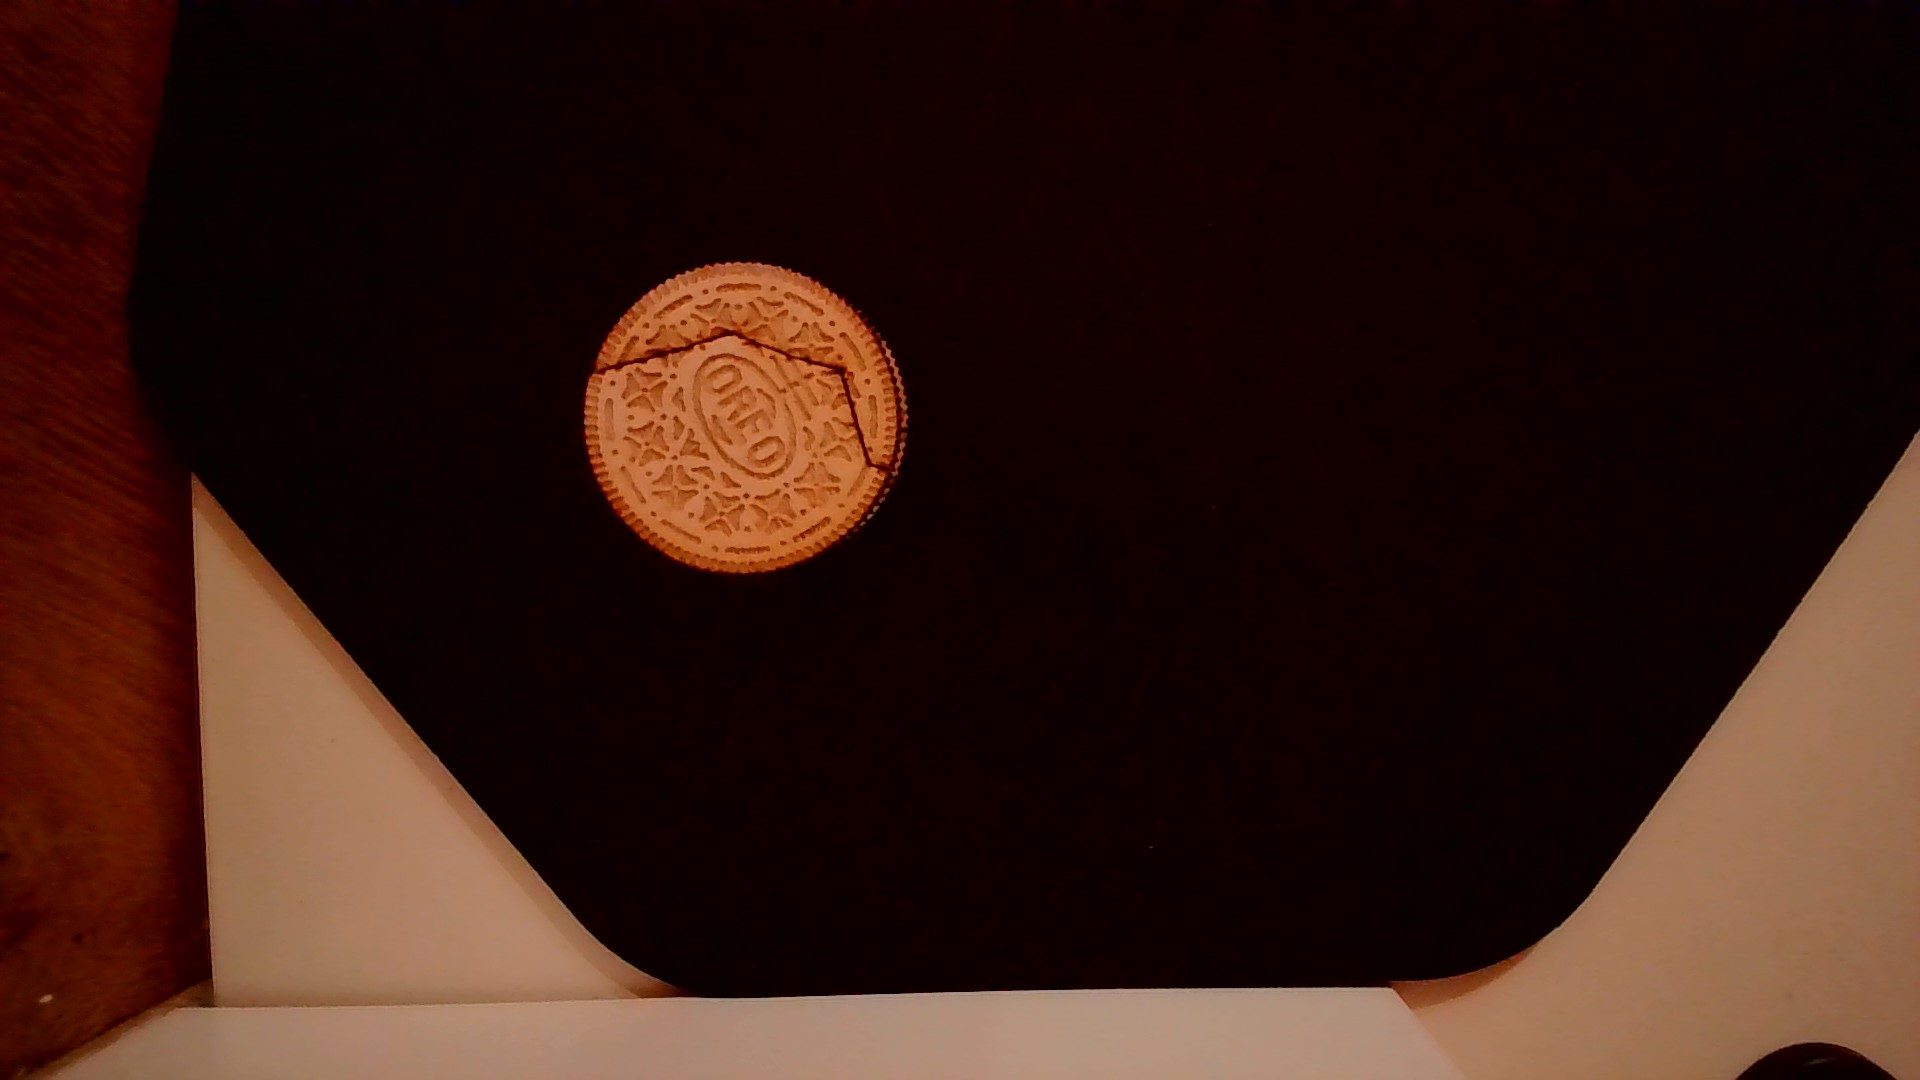Fissure: (589, 323, 895, 493)
Oréo: (583, 251, 911, 587)
